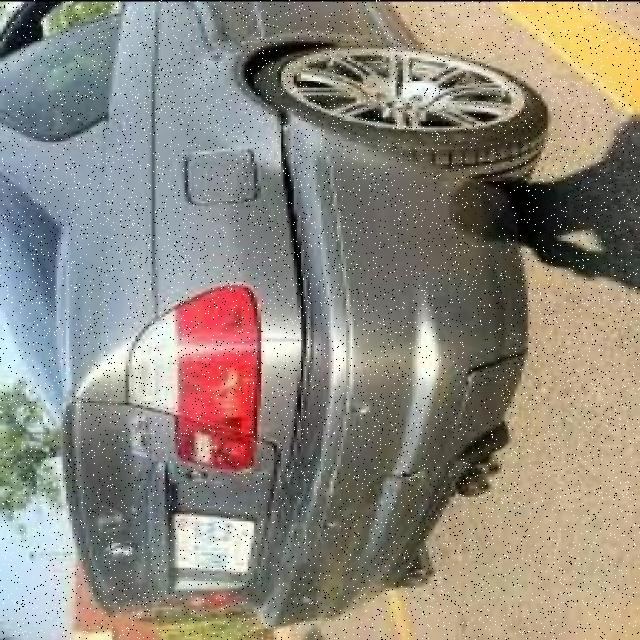damage: (269, 110, 333, 381), (364, 452, 434, 494)
